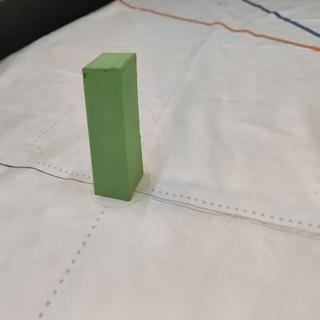greenbox: (81, 51, 142, 203)
